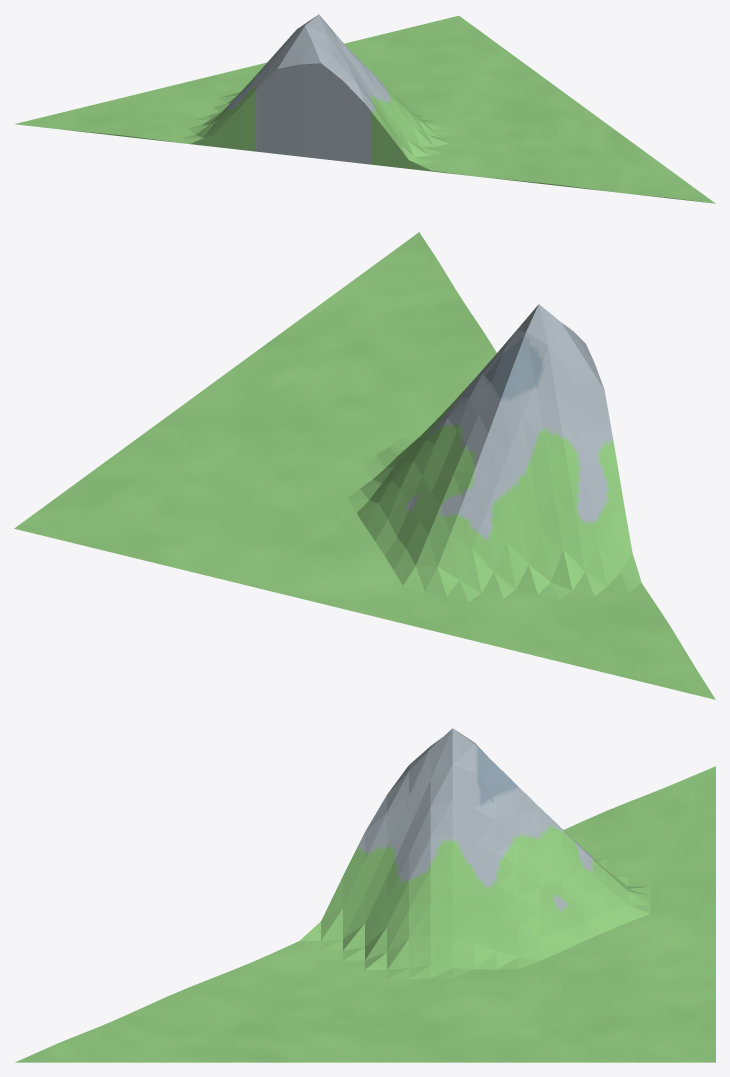
Rendered from Grass_RockyMountains_06_SE.obj.
3 renders of one model, top to bottom at view 1: azimuth 30°, elevation 25°; view 2: azimuth 150°, elevation 25°; view 3: azimuth 270°, elevation 25°, orthographic. The views are drawn at different scales.
Bounding box in the file's own units: 10 × 2.78 × 10.
Materials: 1 (1 with a texture image).
